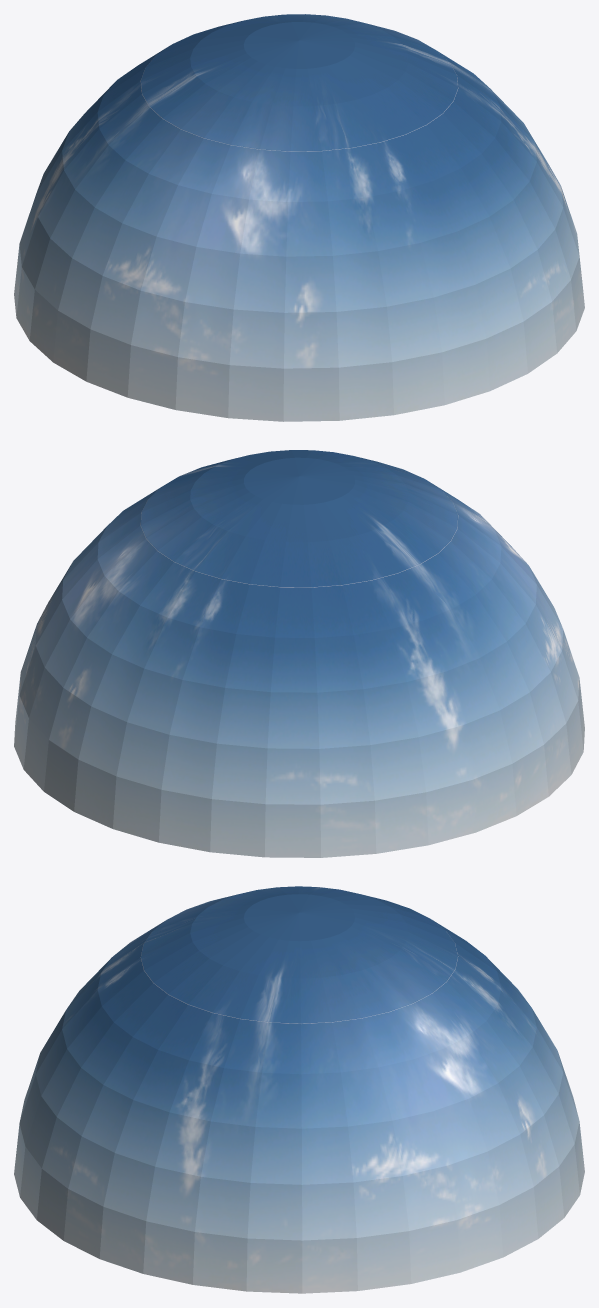
File: nurburgring_sky.glb
The picture shows the model from 3 angles, top to bottom: view 1: azimuth 30°, elevation 25°; view 2: azimuth 150°, elevation 25°; view 3: azimuth 270°, elevation 25°; orthographic projection.
Bounding box in the file's own units: 2200 × 1107 × 2200.
2 materials, 2 textured.
